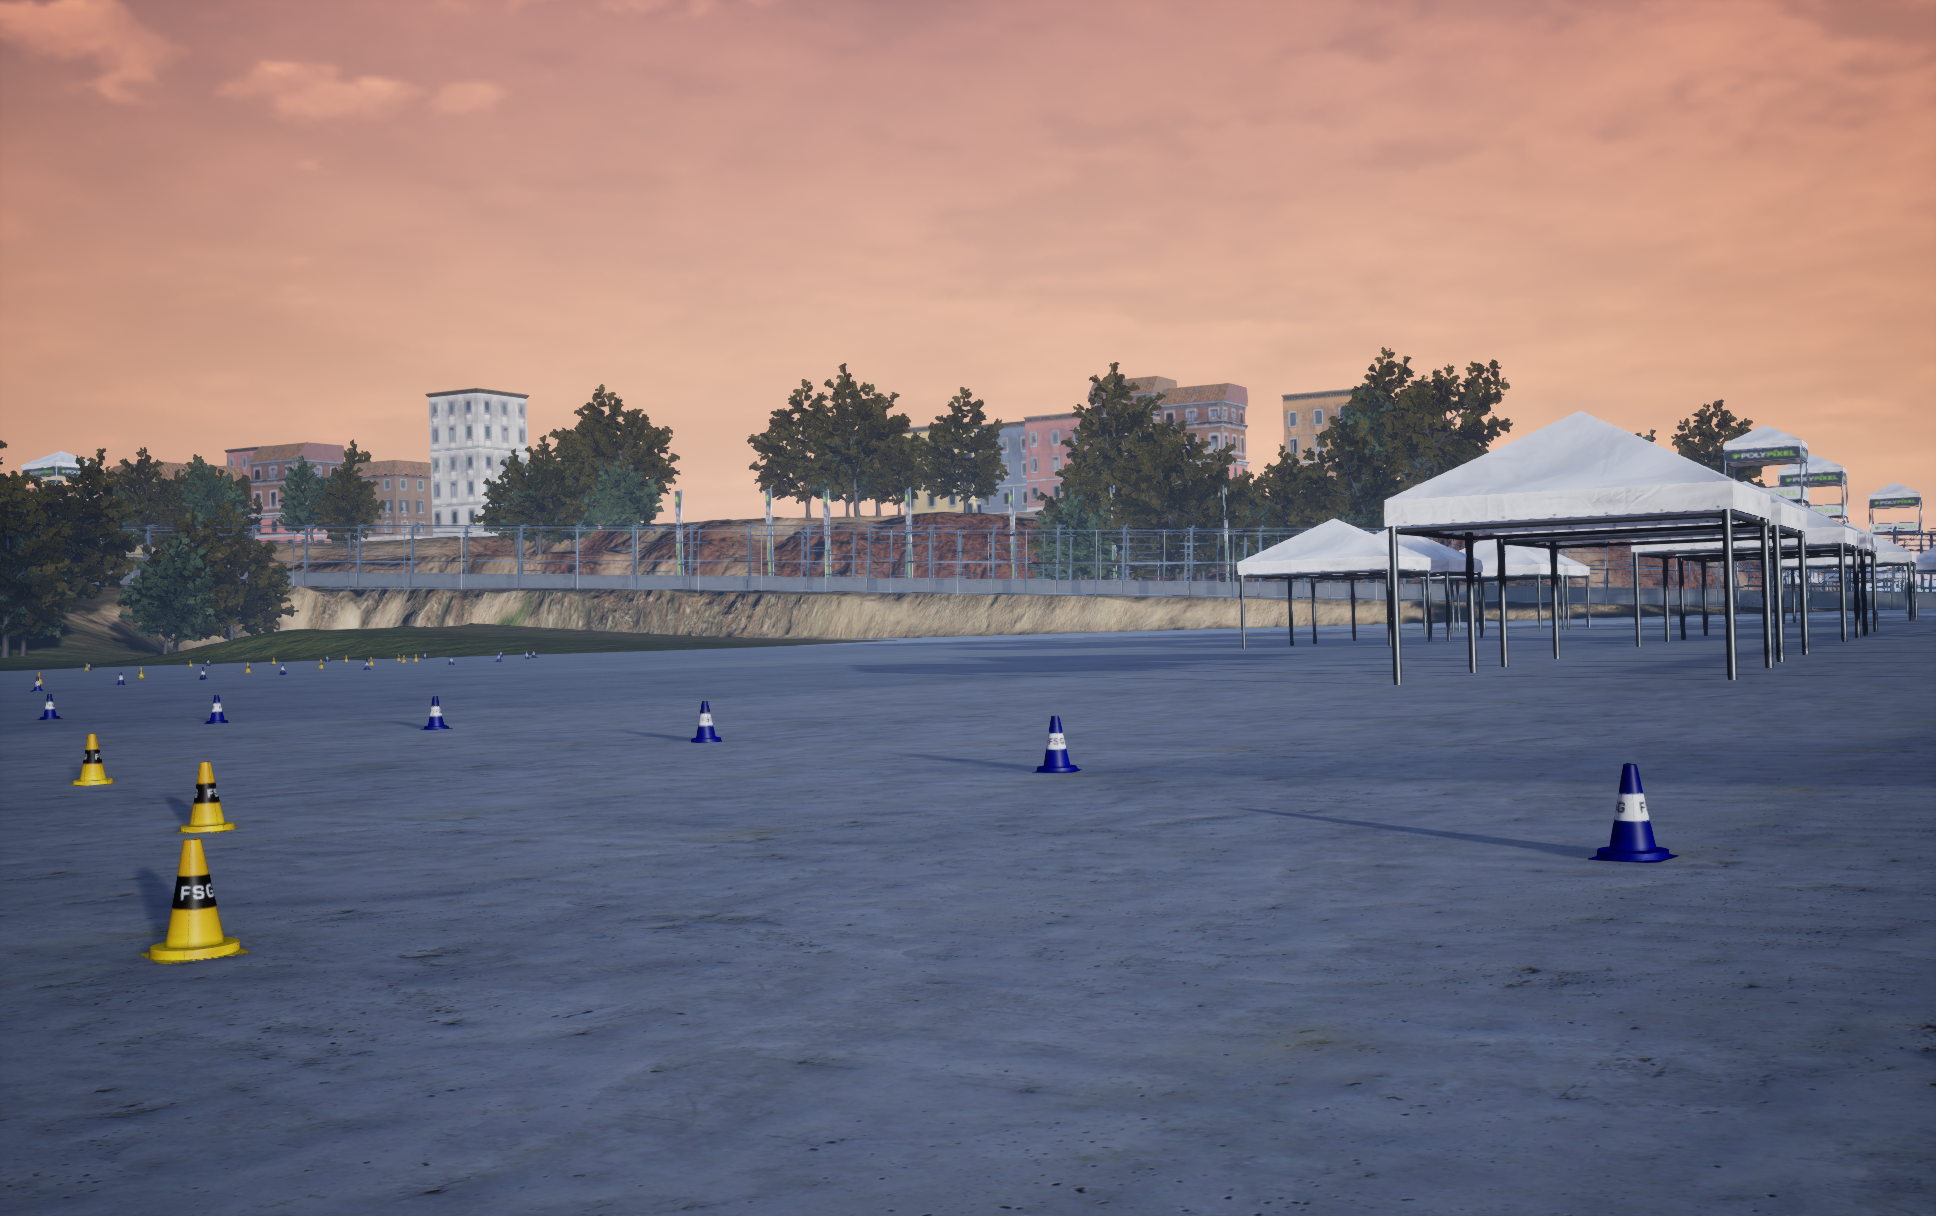blue: (139, 838, 249, 962), (172, 761, 241, 834), (70, 734, 115, 785)
yellow: (1589, 764, 1678, 862), (1032, 716, 1081, 772), (691, 700, 721, 742), (420, 696, 452, 728), (205, 695, 228, 723), (36, 693, 62, 719)
